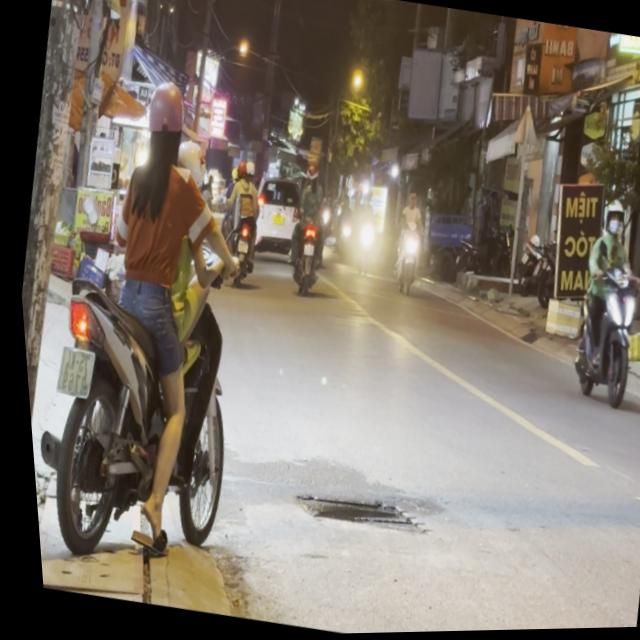helmet: (134, 77, 193, 165), (600, 199, 626, 239)
licenseplate: (4, 60, 294, 589), (549, 194, 640, 414)
nohelmet: (49, 345, 91, 395)
